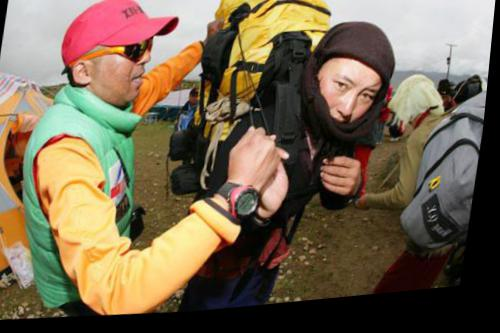NONE: (93, 35, 159, 111)
WRONG: (305, 69, 384, 152)
